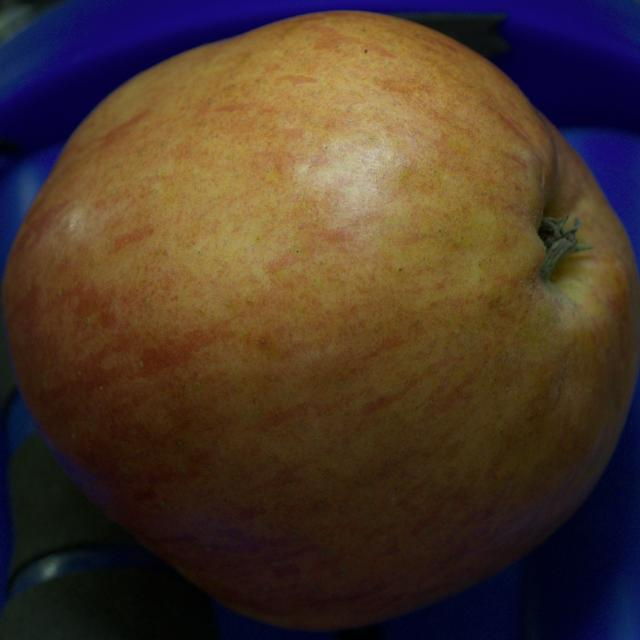apple: (2, 12, 639, 630)
